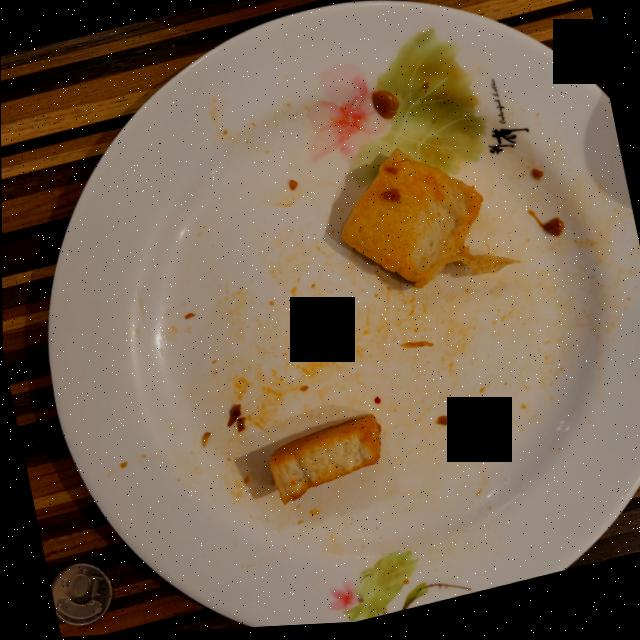coin: (50, 564, 112, 627)
creamy tofu: (269, 418, 380, 507)
creamy tofu -without sauce-: (341, 153, 516, 293)
